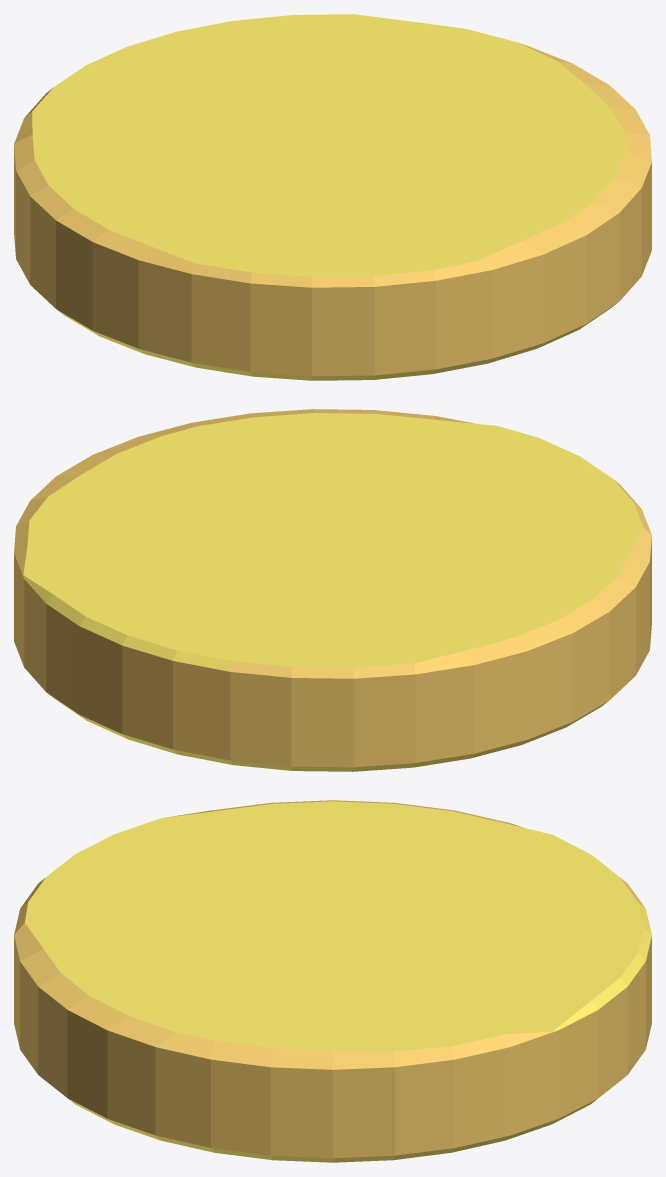
Rendered from Cookie2.fbx.
3 views of the same model, one above another, from view 1: azimuth 30°, elevation 25°; view 2: azimuth 150°, elevation 25°; view 3: azimuth 270°, elevation 25° (orthographic).
Visible parts, largest first — view 1: 円柱; view 2: 円柱; view 3: 円柱.
Boxes of the visible parts, x1,y1,x2,y2 form: 円柱: (14,14,651,380); 円柱: (14,409,651,771); 円柱: (14,800,651,1162).
Size of the model in its own units: 200 by 36.05 by 200.
